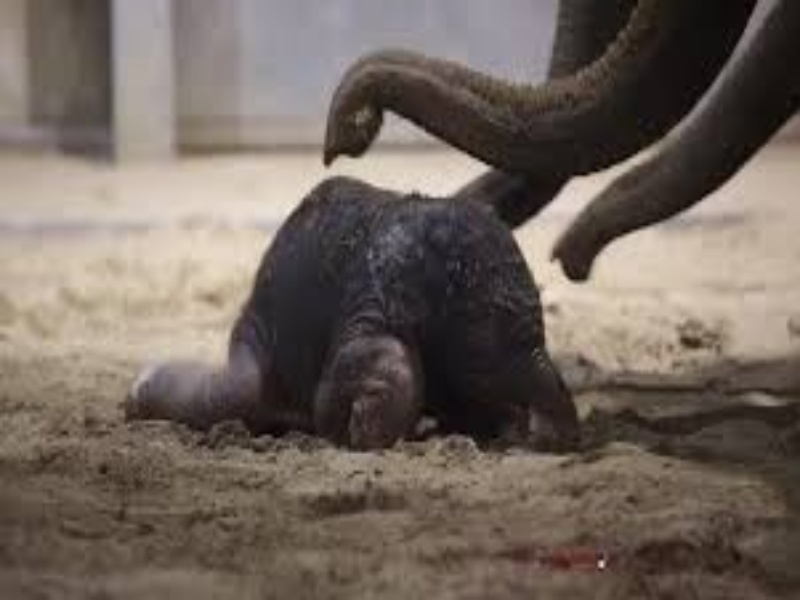elephant: (107, 166, 609, 487)
